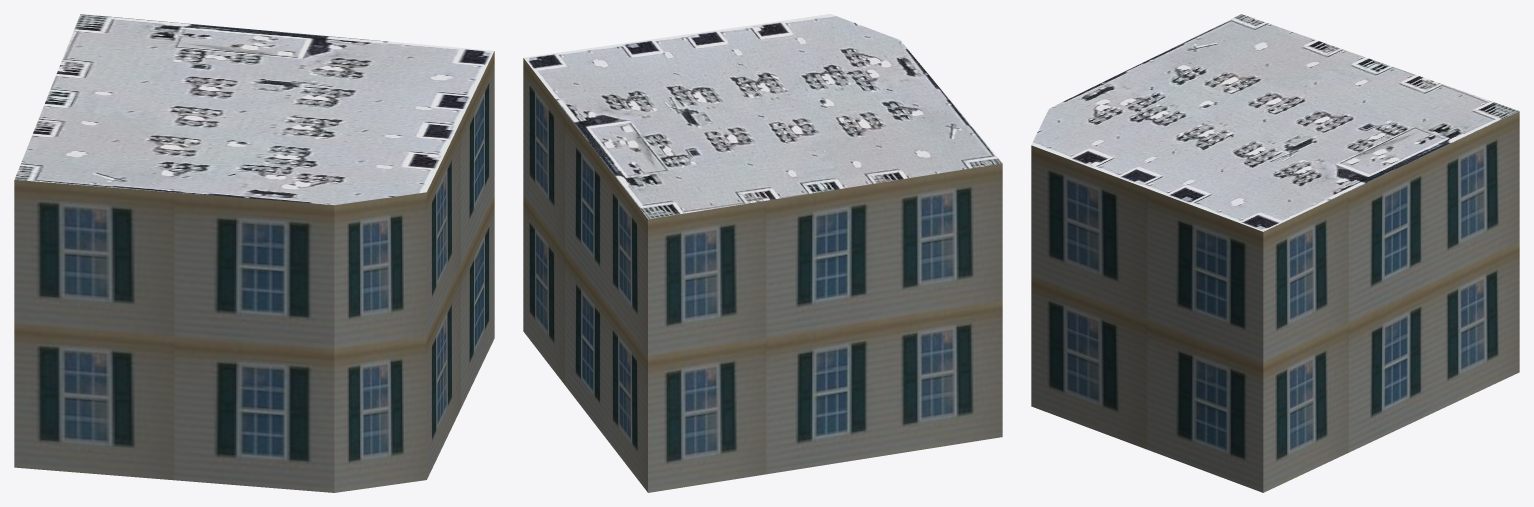
The model's file is ResTex__2297.fbx.
3 renders of one model, left to right at view 1: azimuth 30°, elevation 25°; view 2: azimuth 150°, elevation 25°; view 3: azimuth 270°, elevation 25°, orthographic. The views are drawn at different scales.
Parts seen in each view (by area): view 1: CityEngineMaterial_7_m, CityEngineMaterial_8_m; view 2: CityEngineMaterial_7_m, CityEngineMaterial_8_m; view 3: CityEngineMaterial_7_m, CityEngineMaterial_8_m.
Part boxes in pixels (x1,y1,x2,y2): CityEngineMaterial_7_m: (14, 51, 494, 492); CityEngineMaterial_8_m: (14, 14, 494, 205); CityEngineMaterial_7_m: (523, 58, 1002, 492); CityEngineMaterial_8_m: (523, 14, 1002, 219); CityEngineMaterial_7_m: (1031, 111, 1519, 492); CityEngineMaterial_8_m: (1031, 14, 1519, 231).
Size of the model in its own units: 10.74 by 6 by 10.18.
Materials: 2 (2 with a texture image).
